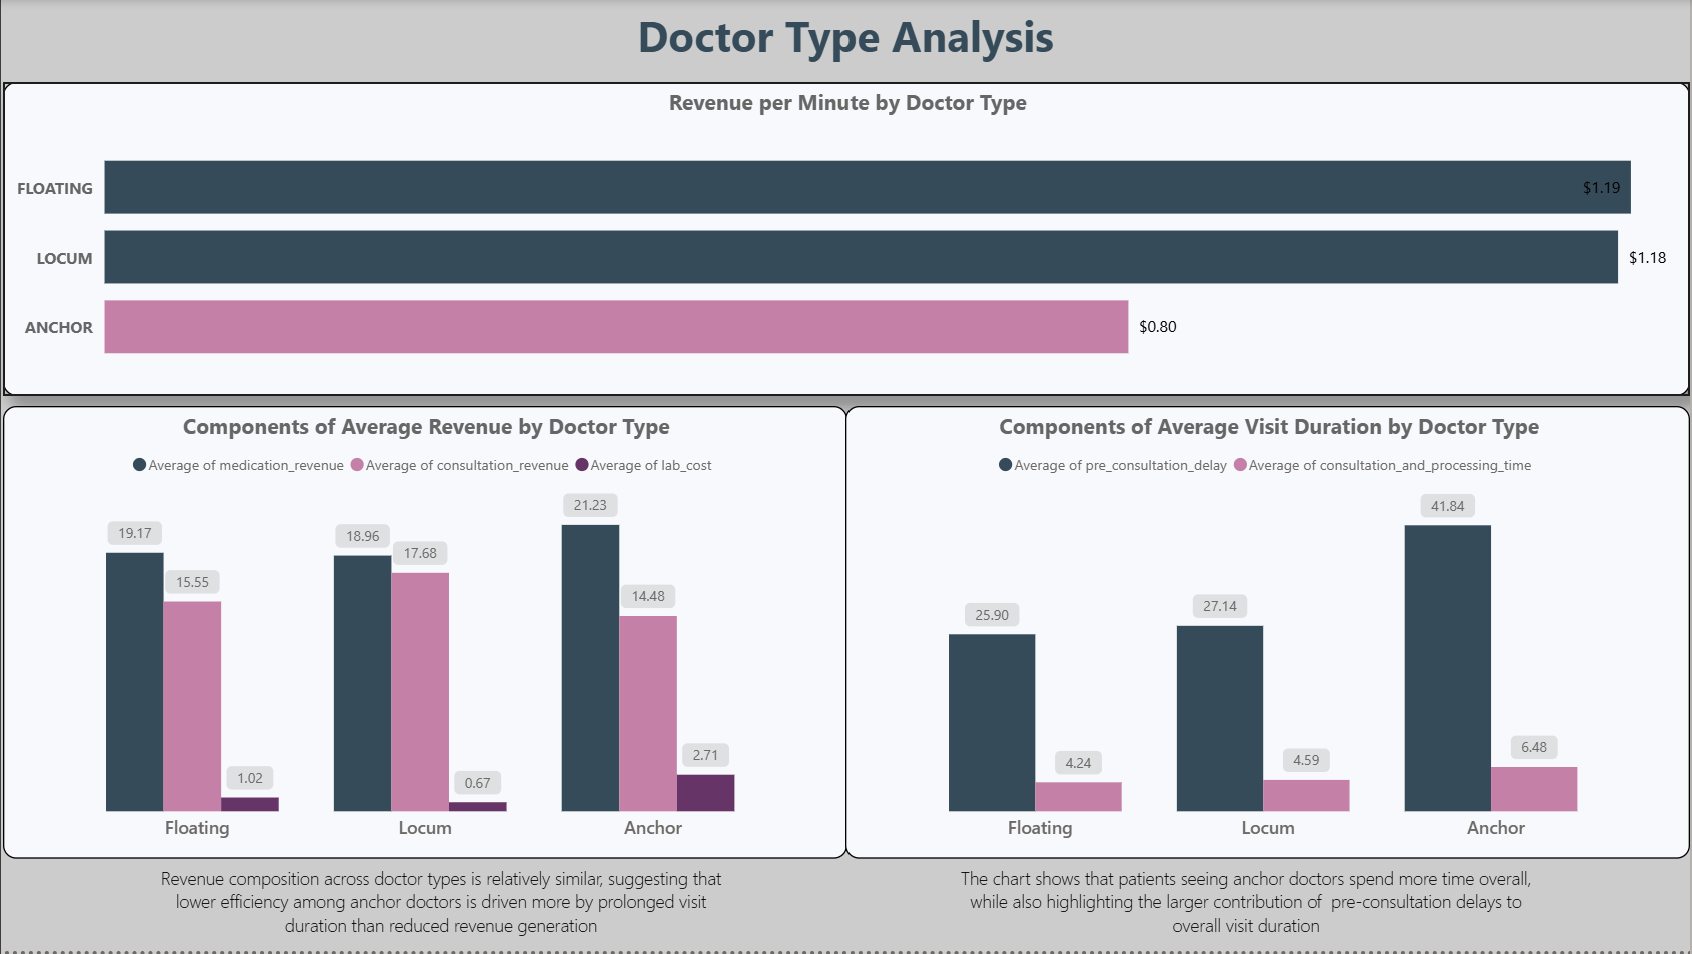

The dashboard page shown, as its layout file describes it:
{"tool":"powerbi","page":{"name":"Doctor Type Analysis","canvas":[1280,720],"ordinal":2},"visuals":[{"type":"clusteredBarChart","title":"Revenue per Minute by Doctor Type","fields":{"Y":["🧹hospital_efficiency.Revenue per Minute"],"Category":["🧹hospital_efficiency.doctor_type"]},"box":[1.5,62.2,1278.5,238.1],"z":0},{"type":"textbox","box":[0,0,1280,62.2],"z":1000},{"type":"clusteredColumnChart","title":"Components of Average Revenue by Doctor Type","fields":{"Y":["Avg(🧹hospital_efficiency.medication_revenue)","Avg(🧹hospital_efficiency.consultation_revenue)","Avg(🧹hospital_efficiency.lab_cost)"],"Category":["DoctorTypeSort.Doctor_type"]},"box":[1.5,307.9,640,342.7],"z":2000},{"type":"clusteredColumnChart","title":"Components of Average Visit Duration by Doctor Type","fields":{"Y":["Avg(🧹hospital_efficiency.pre_consultation_delay)","Avg(🧹hospital_efficiency.consultation_and_processing_time)"],"Category":["DoctorTypeSort.Doctor_type"]},"box":[640,307.9,640,342.7],"z":3000},{"type":"textbox","box":[103.1,650.6,461,71.3],"z":4000},{"type":"textbox","box":[712.8,650.6,461,72.8],"z":5000}]}

Visuals, with their boxes in screenshot pixels (x1, y1, x2, y2), scaled from the page's 1280x720 canvas onto the 1692x954 screenshot:
"Revenue per Minute by Doctor Type" clusteredBarChart: region(2, 82, 1691, 398)
textbox: region(0, 0, 1691, 82)
"Components of Average Revenue by Doctor Type" clusteredColumnChart: region(2, 408, 848, 862)
"Components of Average Visit Duration by Doctor Type" clusteredColumnChart: region(846, 408, 1691, 862)
textbox: region(136, 862, 746, 953)
textbox: region(942, 862, 1552, 953)
